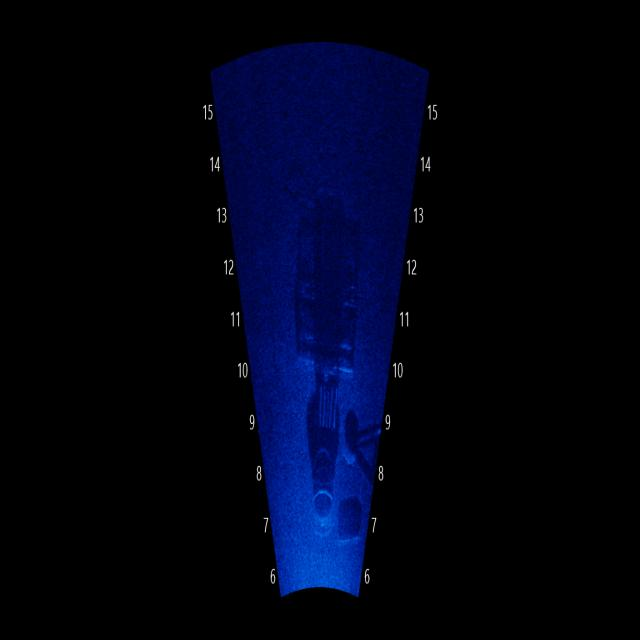circle: (294, 470, 339, 556)
square: (286, 187, 369, 381)
